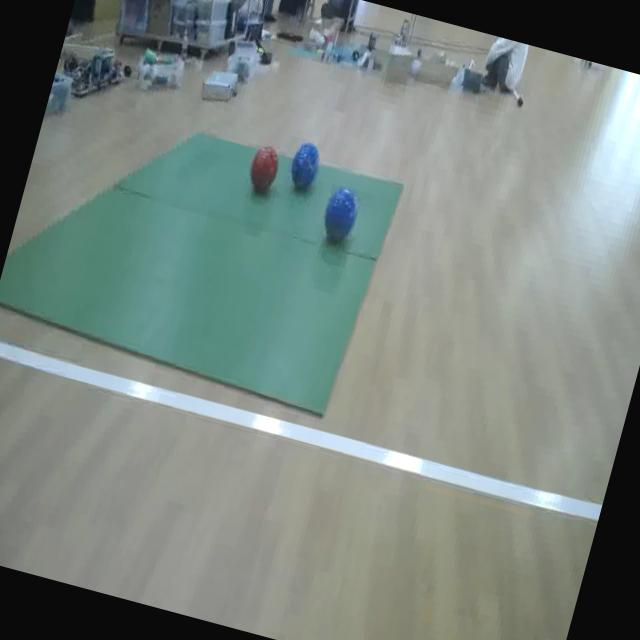blue_ball: (317, 181, 364, 246), (282, 137, 326, 195)
red_ball: (243, 139, 286, 197)
